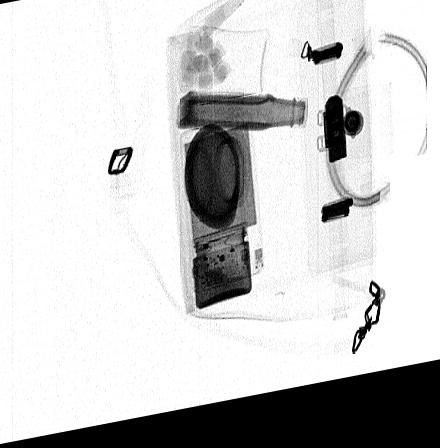Powerbank: (178, 122, 264, 302)
